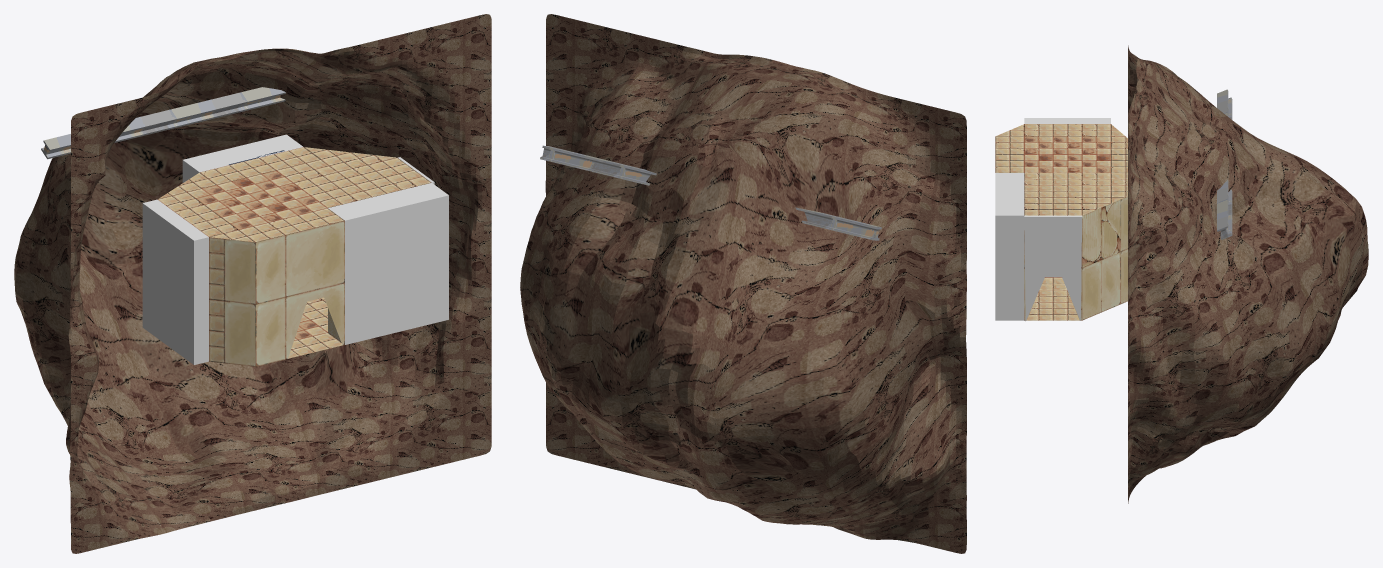
3 views of the same model, side by side, from view 1: azimuth 30°, elevation 25°; view 2: azimuth 150°, elevation 25°; view 3: azimuth 270°, elevation 25° (orthographic). The views are drawn at different scales.
Visible parts, largest first — view 1: Grid, Plane.002, Plane.001, col1, col1.002, Cube, col1.001, Plane; view 2: Grid, Cube; view 3: Grid, Plane.002, Plane.001, col1.003, col1, Plane, Cube, col1.002.
Part boxes in pixels (x1,y1,x2,y2): Grid: (14,14,491,553); Plane.002: (157,147,431,242); Plane.001: (209,221,344,366); col1: (328,183,448,344); col1.002: (142,199,208,364); Cube: (41,87,285,159); col1.001: (182,134,302,182); Plane: (288,297,342,358); Grid: (520,14,966,553); Cube: (540,145,881,240); Grid: (1128,45,1368,503); Plane.002: (995,124,1127,215); Plane.001: (1024,196,1127,320); col1.003: (1024,215,1082,321); col1: (995,173,1024,320); Plane: (1026,277,1079,320); Cube: (1217,89,1232,239); col1.002: (1024,118,1110,123).
Size of the model in its own units: 1419 by 1473 by 1290.
